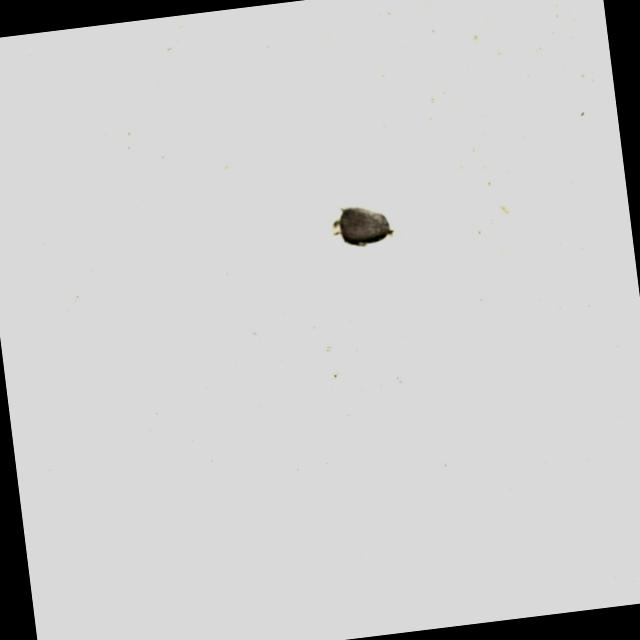surface_peeling: (328, 196, 398, 253)
